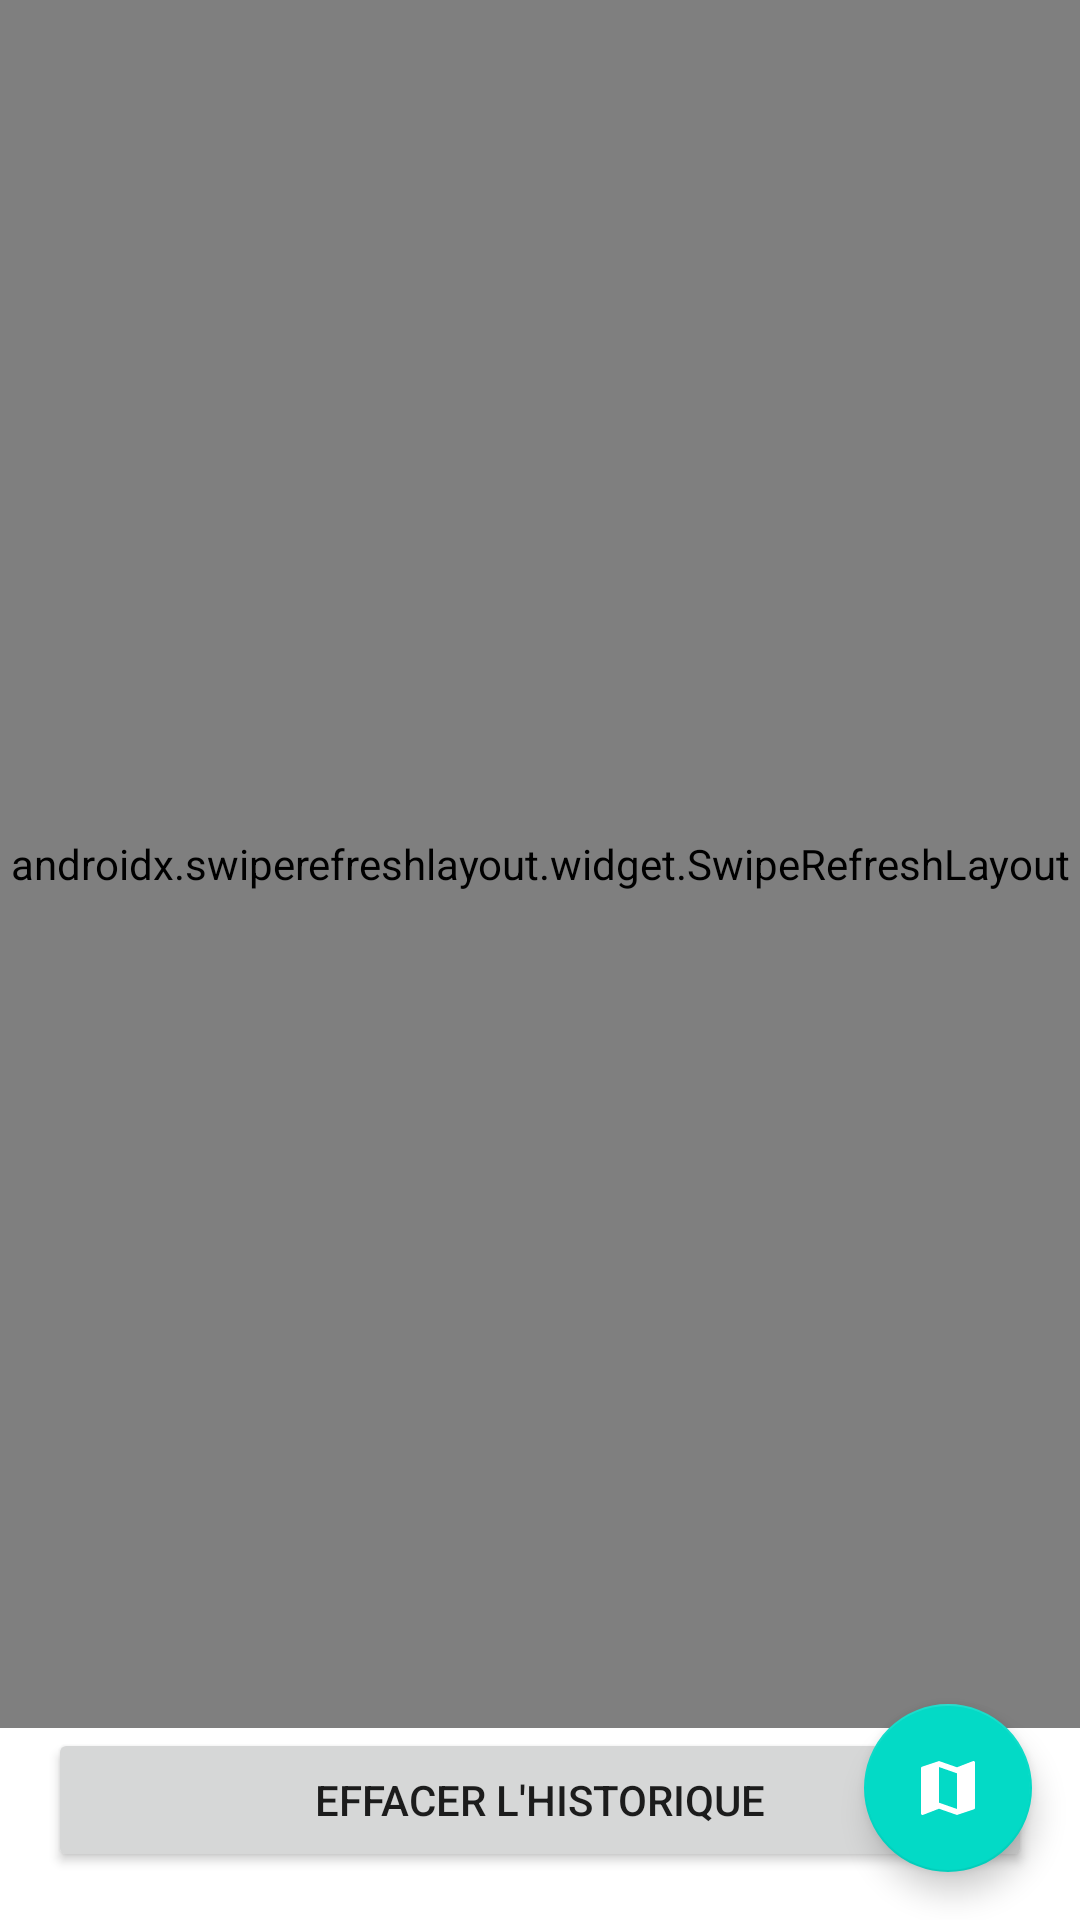

Icons on this 1080w x 1920h Android screen, each with the point to tap as (x,y):
Voir sur la carte: (948,1788)
